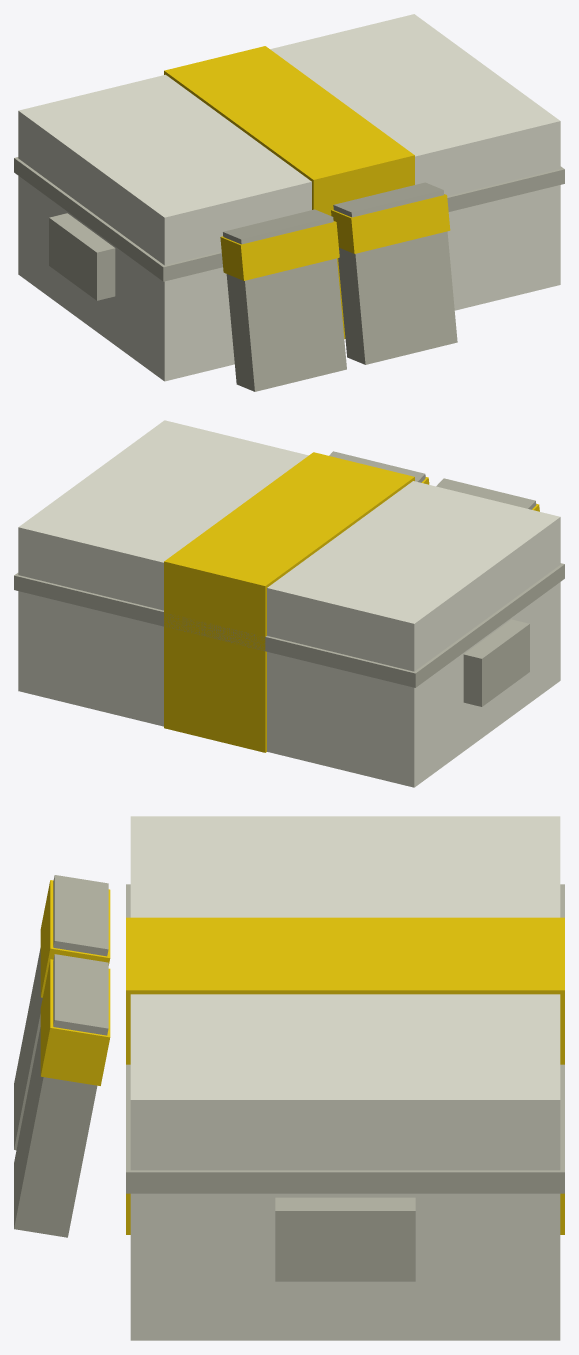
The model's file is ce_ammo_chmag_reg_c.obj.
3 renders of one model, top to bottom at view 1: azimuth 30°, elevation 25°; view 2: azimuth 150°, elevation 25°; view 3: azimuth 270°, elevation 25°, orthographic. The views are drawn at different scales.
Visible parts, largest first — view 1: ce_ammo_chmag_reg_c_0, ce_ammo_chmag_reg_c_1, ce_ammo_chmag_reg_c_5, ce_ammo_chmag_reg_c_7, ce_ammo_chmag_reg_c_2, ce_ammo_chmag_reg_c_6, ce_ammo_chmag_reg_c_8, ce_ammo_chmag_reg_c_3; view 2: ce_ammo_chmag_reg_c_0, ce_ammo_chmag_reg_c_1, ce_ammo_chmag_reg_c_2, ce_ammo_chmag_reg_c_3, ce_ammo_chmag_reg_c_5, ce_ammo_chmag_reg_c_7; view 3: ce_ammo_chmag_reg_c_0, ce_ammo_chmag_reg_c_1, ce_ammo_chmag_reg_c_7, ce_ammo_chmag_reg_c_4, ce_ammo_chmag_reg_c_2, ce_ammo_chmag_reg_c_5, ce_ammo_chmag_reg_c_8, ce_ammo_chmag_reg_c_6.
Boxes of the visible parts, x1,y1,x2,y2 form: ce_ammo_chmag_reg_c_0: [18, 14, 560, 381]; ce_ammo_chmag_reg_c_1: [164, 46, 414, 338]; ce_ammo_chmag_reg_c_5: [223, 209, 346, 391]; ce_ammo_chmag_reg_c_7: [333, 182, 457, 364]; ce_ammo_chmag_reg_c_2: [14, 157, 564, 281]; ce_ammo_chmag_reg_c_6: [220, 221, 339, 280]; ce_ammo_chmag_reg_c_8: [331, 194, 450, 253]; ce_ammo_chmag_reg_c_3: [49, 213, 115, 300]; ce_ammo_chmag_reg_c_0: [18, 420, 560, 787]; ce_ammo_chmag_reg_c_1: [164, 452, 414, 752]; ce_ammo_chmag_reg_c_2: [14, 563, 564, 687]; ce_ammo_chmag_reg_c_3: [463, 619, 529, 706]; ce_ammo_chmag_reg_c_5: [436, 478, 536, 509]; ce_ammo_chmag_reg_c_7: [329, 451, 425, 482]; ce_ammo_chmag_reg_c_0: [130, 816, 560, 1340]; ce_ammo_chmag_reg_c_1: [126, 917, 564, 1234]; ce_ammo_chmag_reg_c_7: [14, 954, 108, 1237]; ce_ammo_chmag_reg_c_4: [275, 1197, 415, 1281]; ce_ammo_chmag_reg_c_2: [126, 884, 564, 1193]; ce_ammo_chmag_reg_c_5: [14, 875, 108, 1150]; ce_ammo_chmag_reg_c_8: [40, 959, 110, 1085]; ce_ammo_chmag_reg_c_6: [40, 880, 110, 997].
Bounding box in the file's own units: 0.94 × 0.346 × 0.7055.
